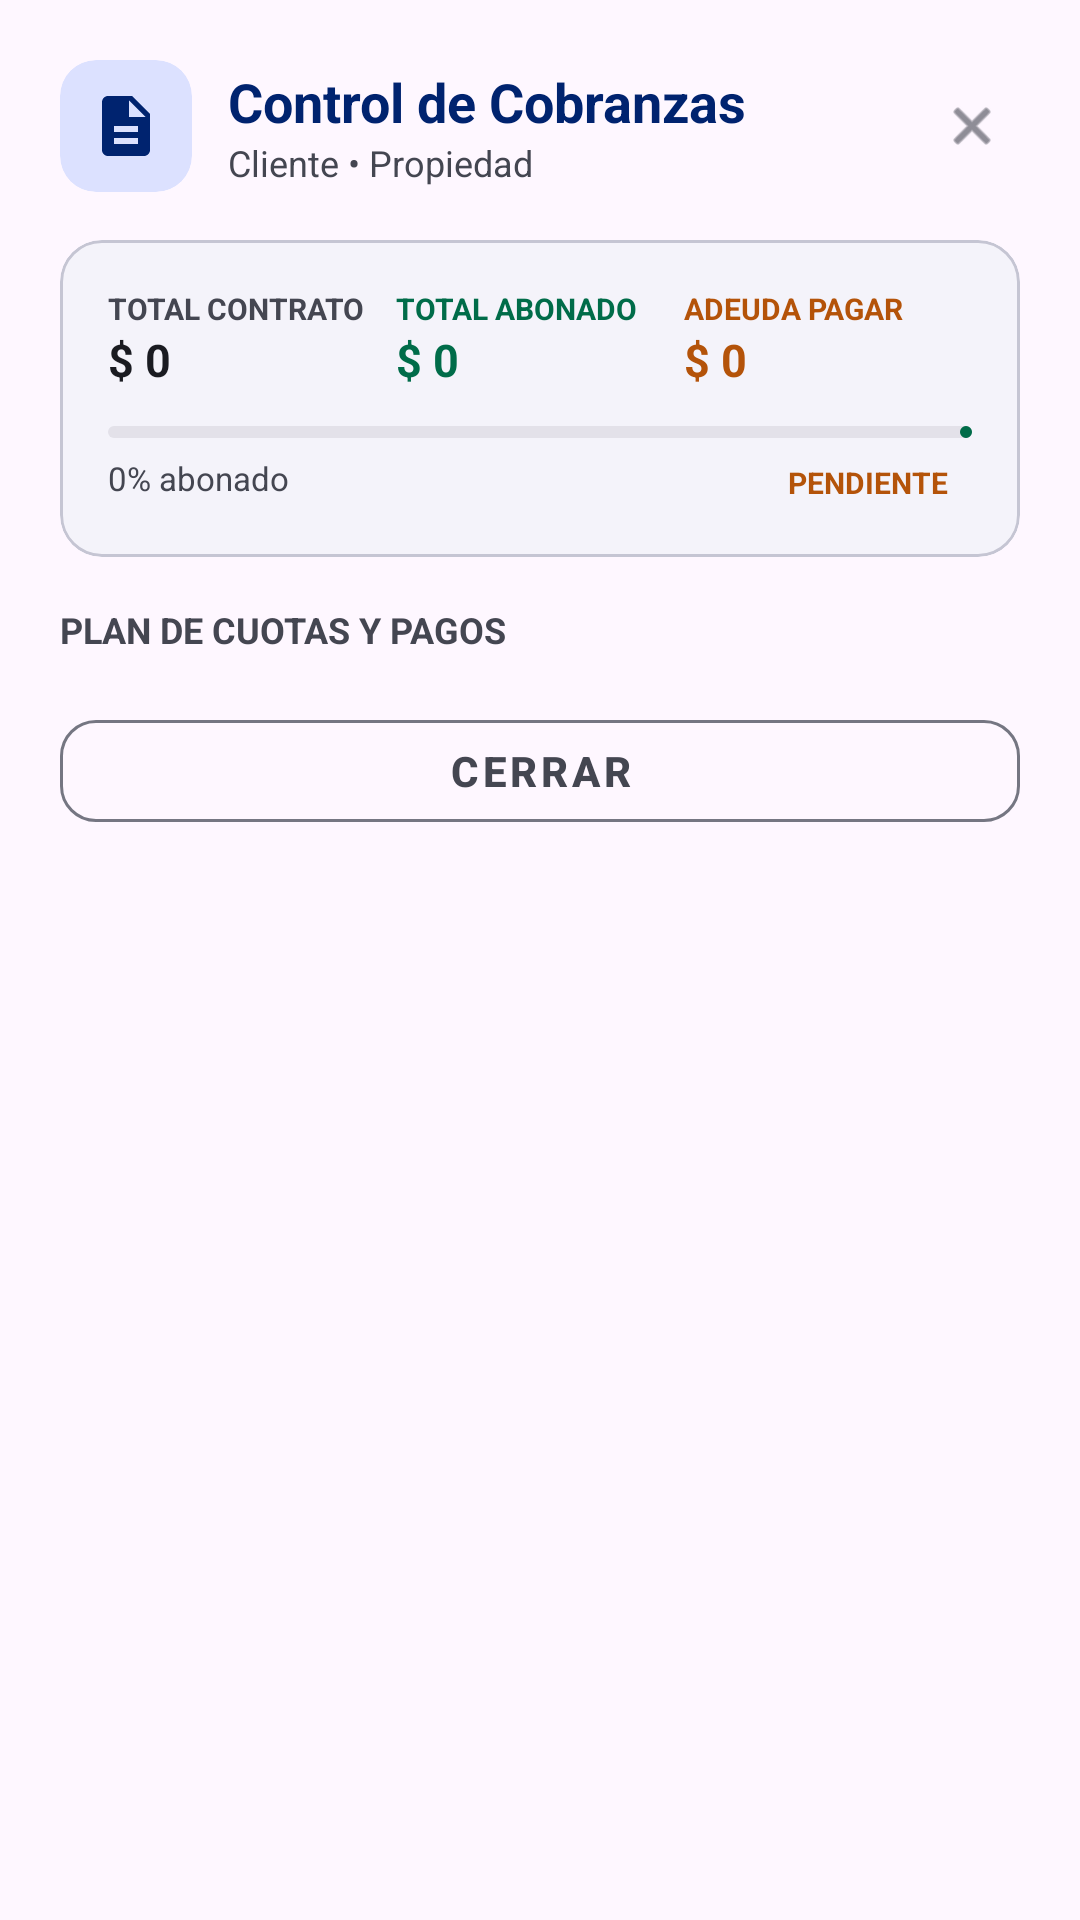

Screen size 1080 × 1920. Icon name, then its center in pixels as (x,y):
close clear cancel: (972,126)
contratos: (126,126)
